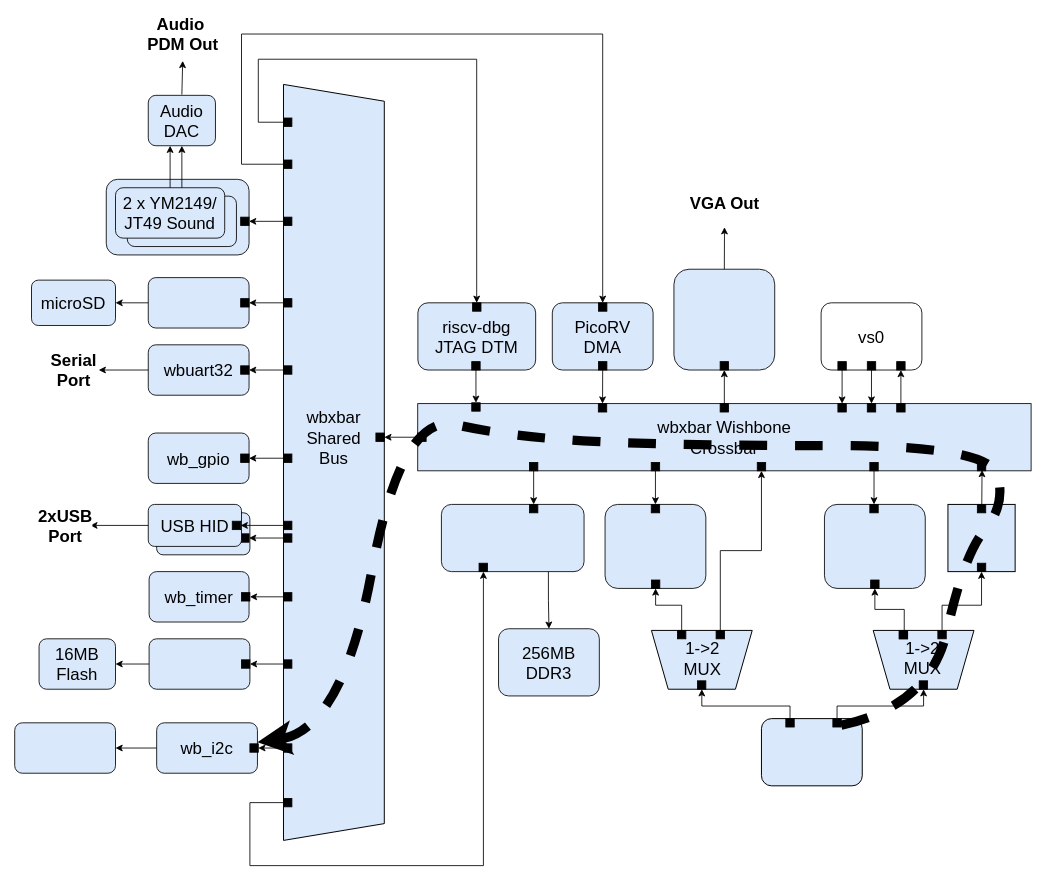
Image size: 1046x888. Some labels were removed from this diagram. The shapes that lost their labels are listed below. From the top down, each one's centre as x and y in pixels, then its label:
At [198,302]: "sdspi".
At [724,319]: "VERA Graphics 128KB VRAM".
At [512,538]: "LiteDRAM MEMC".
At [655,546]: "128K DPRAM CMEM".
At [874,546]: "128K DPRAM DMEM".
At [981,537]: "wb staller".
At [199,663]: "spiflash".
At [65,747]: "RTCC".
At [811,752]: "Ibex RV32IM".
